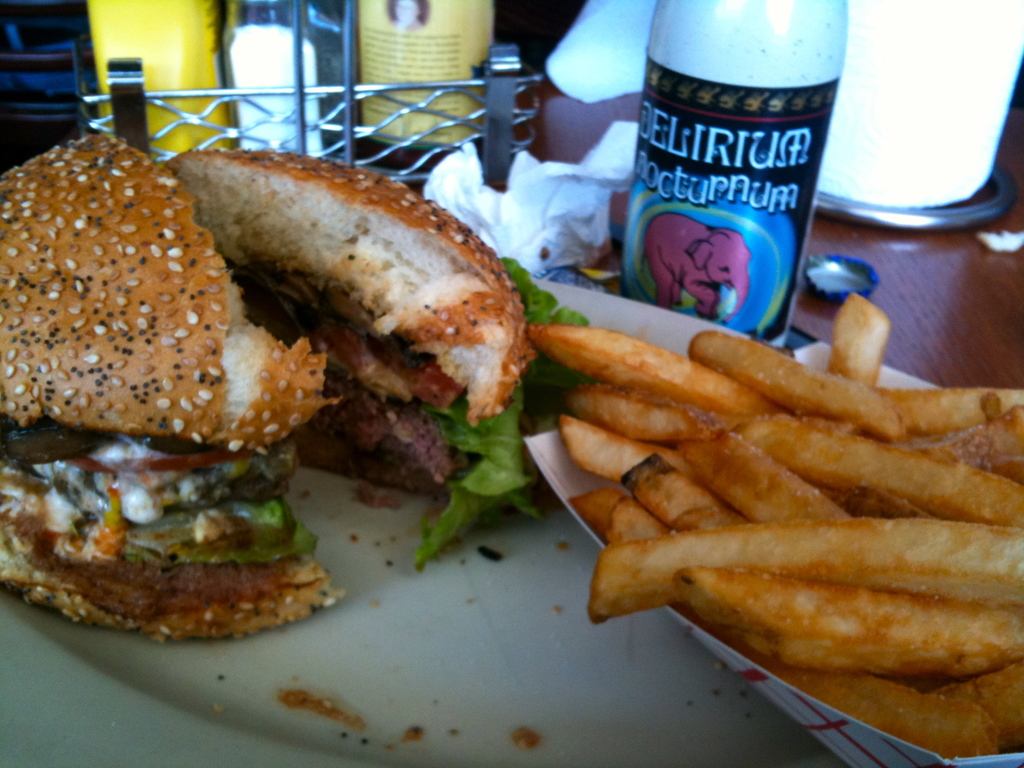French fries: (582, 519, 1023, 622), (733, 412, 1023, 525), (659, 582, 1023, 660), (520, 320, 771, 426), (685, 325, 904, 434), (768, 664, 974, 757), (681, 417, 841, 525), (556, 387, 720, 451), (616, 451, 746, 529), (553, 414, 682, 484), (910, 402, 1023, 476), (935, 661, 1023, 754), (796, 406, 929, 459), (857, 386, 1023, 422), (837, 463, 937, 522), (828, 289, 892, 381), (569, 475, 648, 538), (987, 386, 1023, 427)
